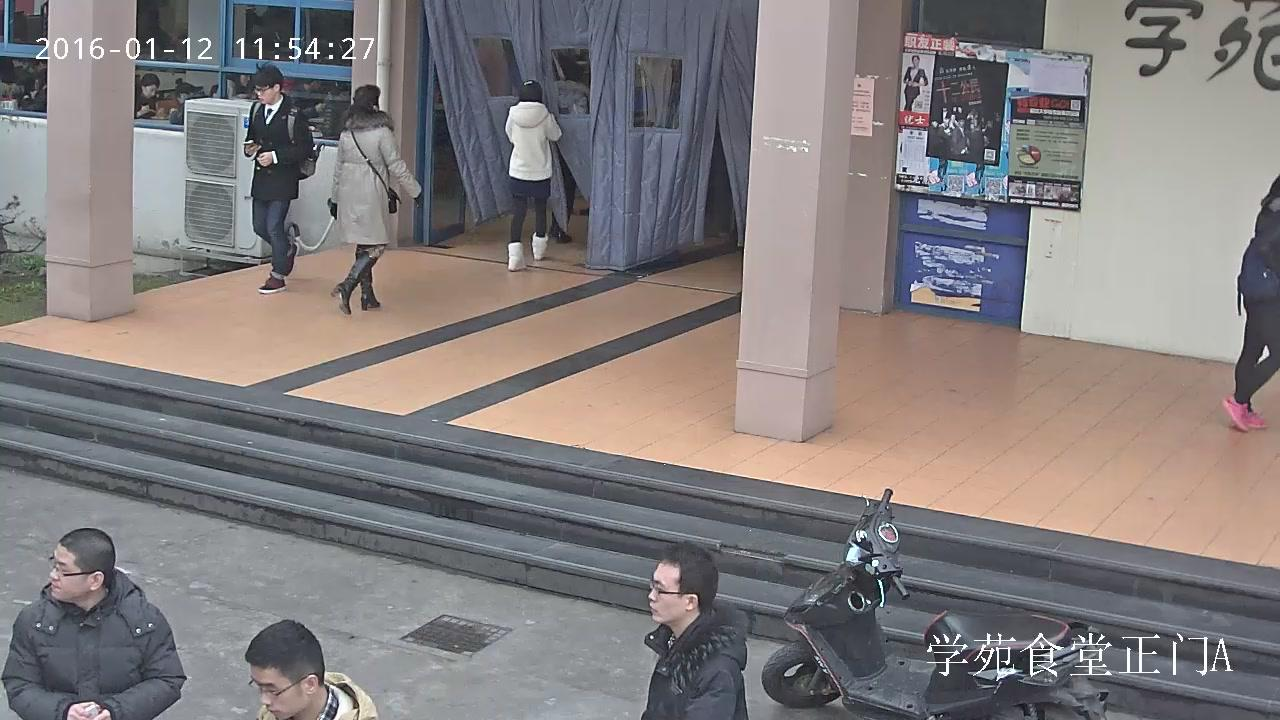person: (0, 527, 189, 720), (326, 84, 422, 314), (636, 541, 751, 720), (242, 64, 316, 294), (1219, 172, 1280, 433), (503, 78, 561, 271), (548, 63, 587, 243), (316, 80, 349, 142), (168, 82, 207, 125), (902, 55, 927, 111), (134, 71, 163, 118)
